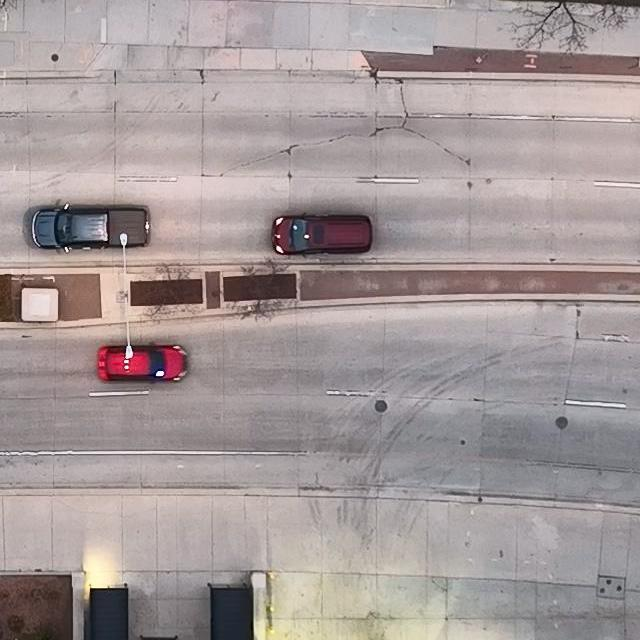car: (31, 202, 150, 252), (271, 213, 372, 258), (98, 340, 190, 384)
